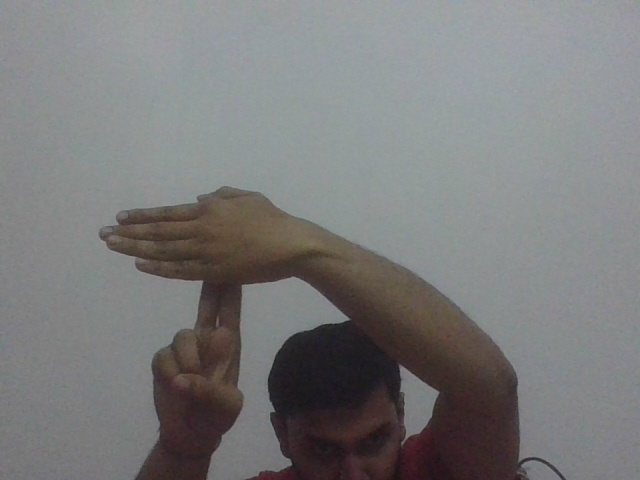N: (98, 182, 287, 329)
